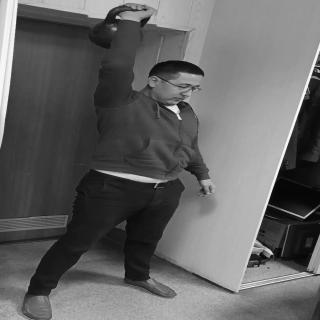kettlebell: (89, 5, 160, 50)
